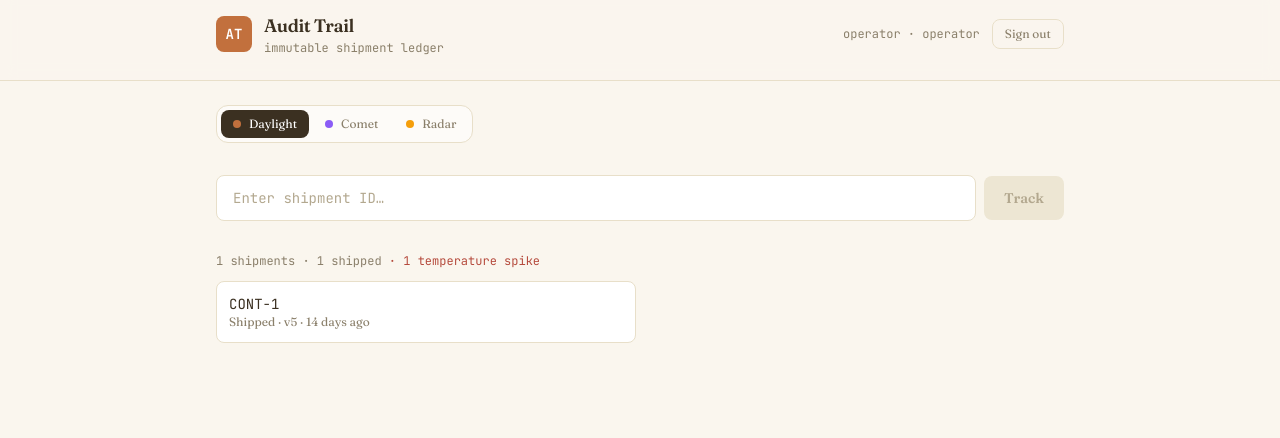
Test: App › shows a server/network error with a retry instead of a blank state
Type "CONT-1" into the field labelled "shipment ID" at point(596, 198), box [216, 175, 976, 221]
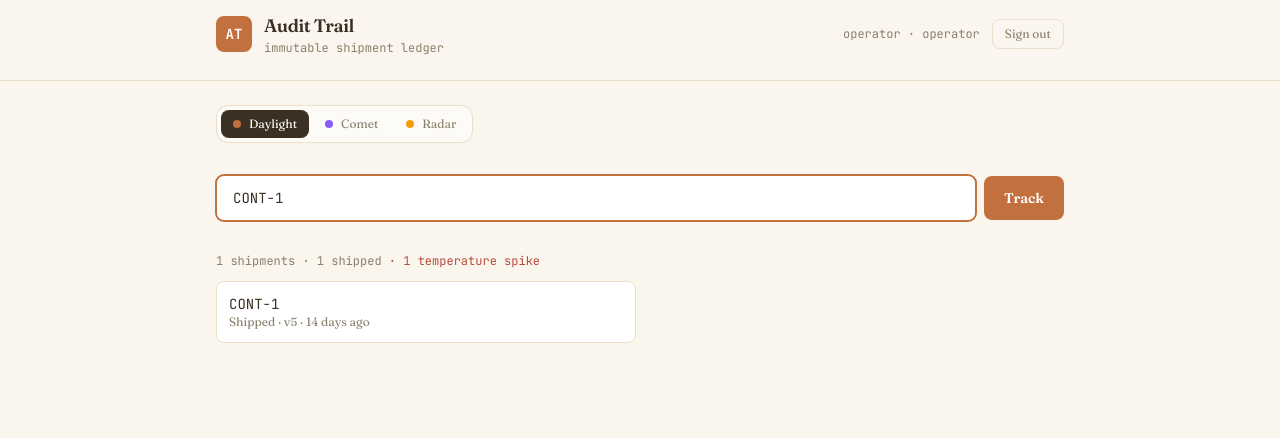
Click the button "Track" at point(1024, 198), box [984, 176, 1064, 220]
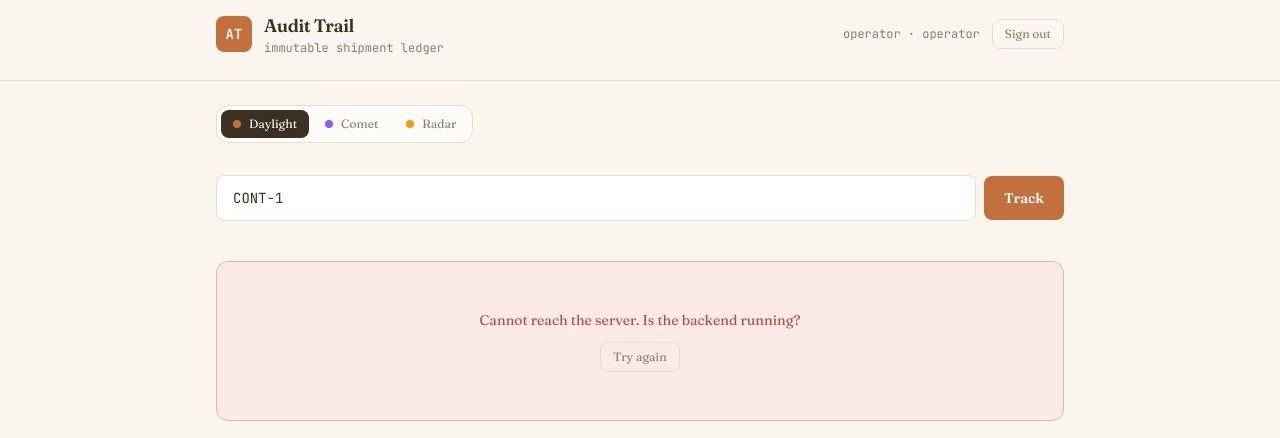
Expected: the message shows "Cannot reach the server", [480, 311, 800, 329]
Expected: the button "Try again" is shown, [600, 342, 680, 372]
